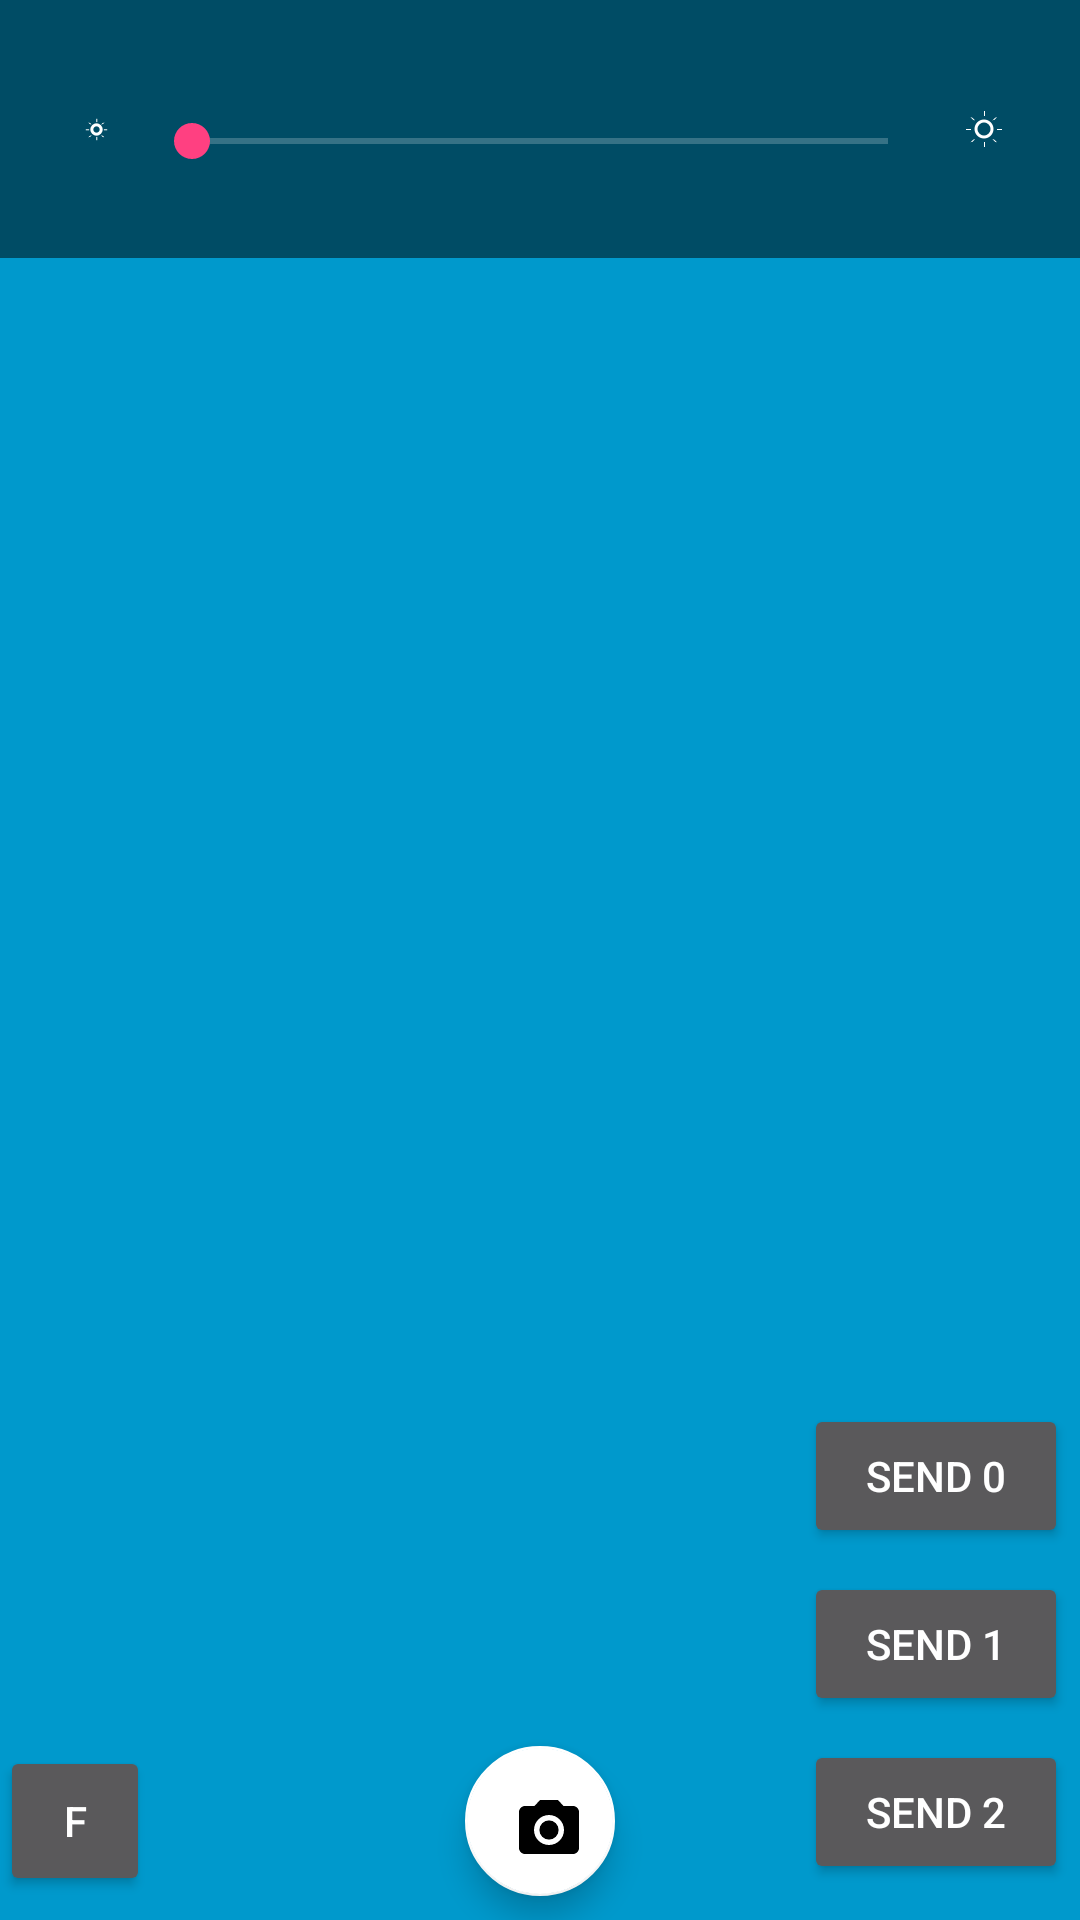

Where to tap for icons on this 1080px×1920px app screen, as (x=x, y=y):
brightlight: (x=984, y=129)
photo camera: (x=540, y=1821)
